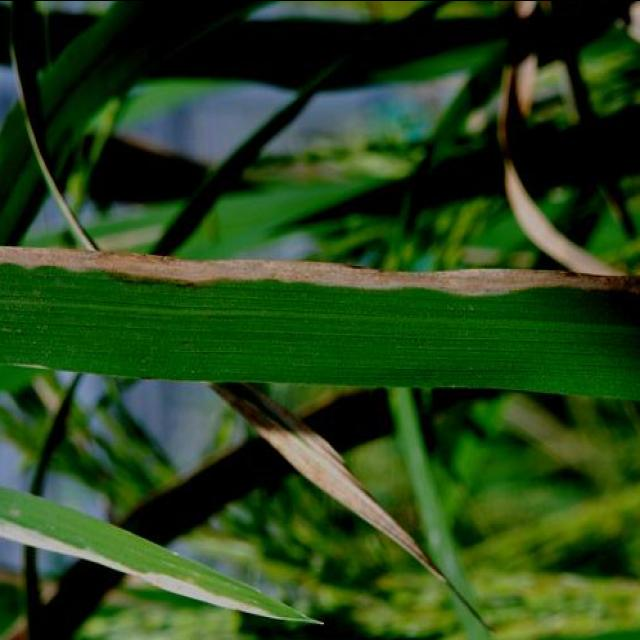Bacterial_Leaf_Blight: (0, 244, 640, 302)
